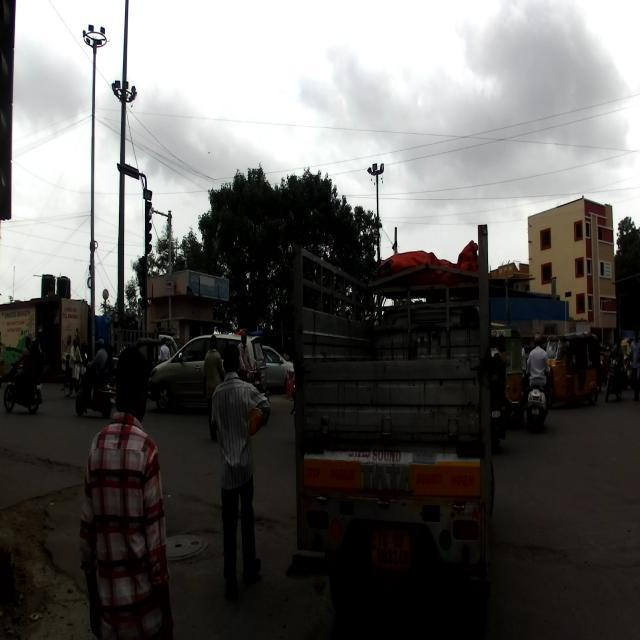Pothole: (493, 515, 585, 583)
Sewer Cover: (166, 507, 212, 576)
